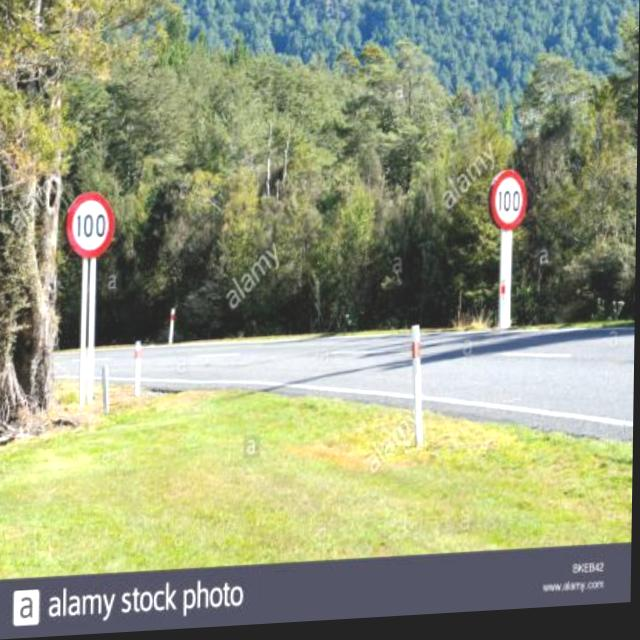limit100: (64, 189, 119, 262), (487, 174, 529, 239)
